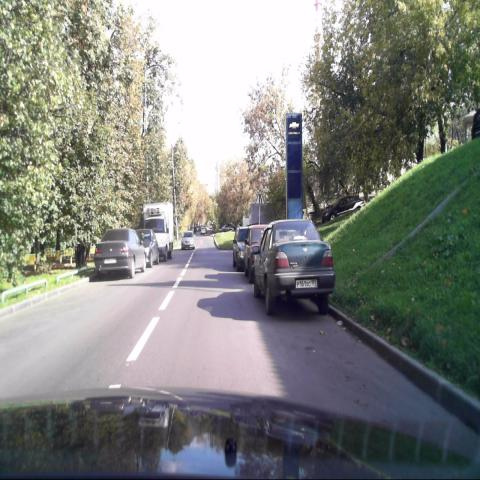1_20_2: (253, 187, 266, 206)
